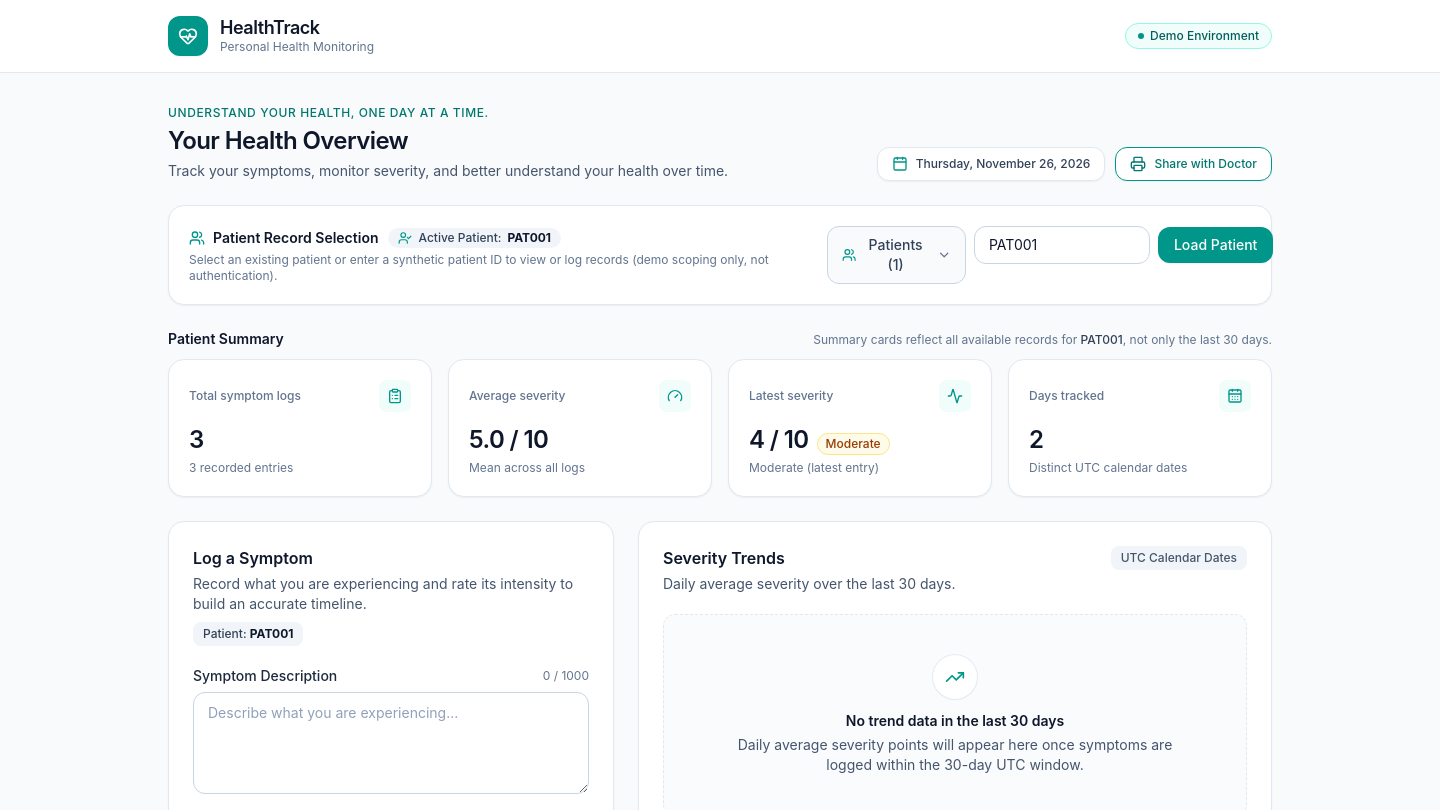
Test: HealthTrack Dashboard › refreshes dynamic patient list after creating a new patient first symptom
Expected: the button with aria-label "Browse existing patients" reads "Patients (1)", [827,226,966,284]
// Enter a new patient ID manually and load it
Replace the text in the field named "Patient ID" with "PAT_NEW_99": (1062, 245) [974,226,1150,264]
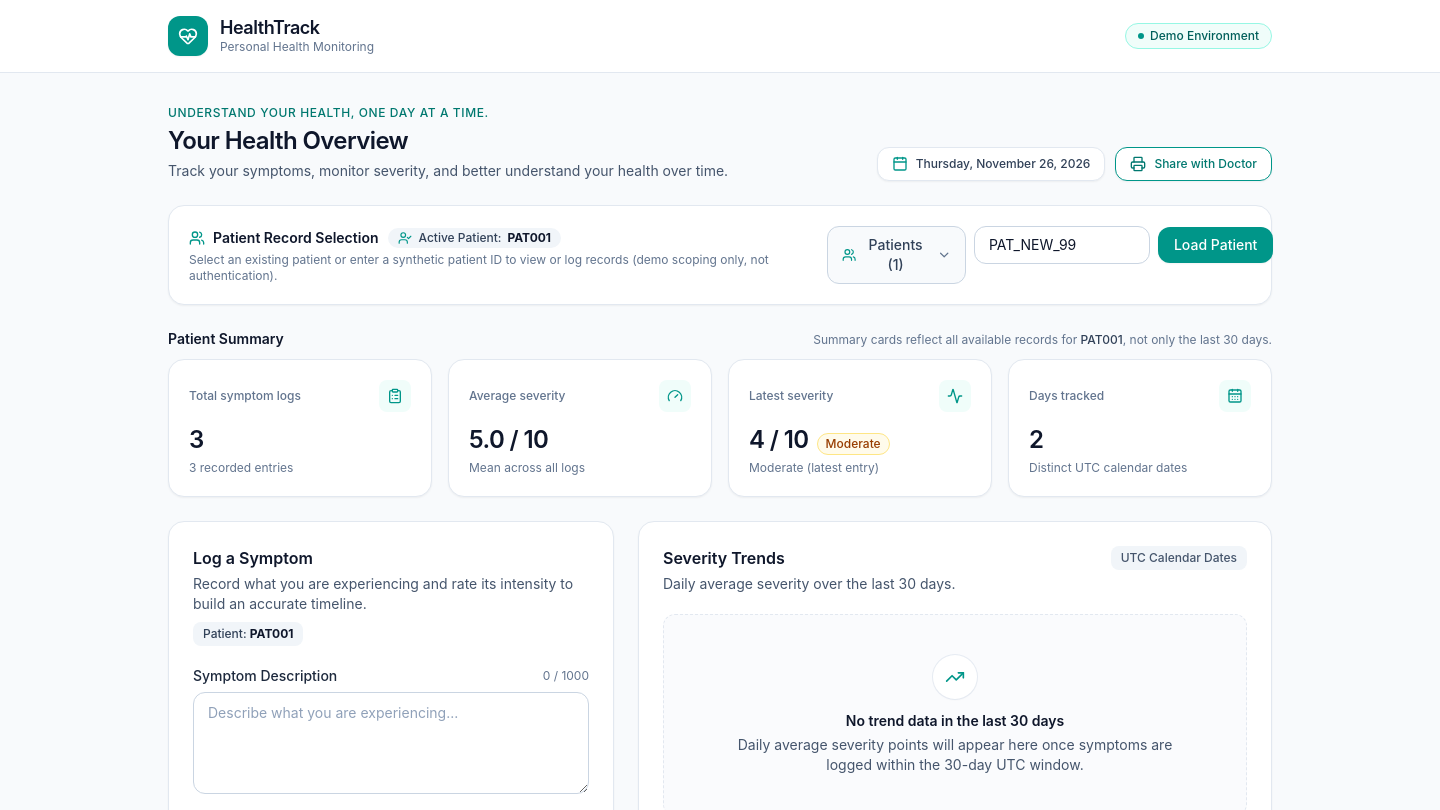
Click the button "Load Patient": (1216, 245) [1158,227,1273,263]
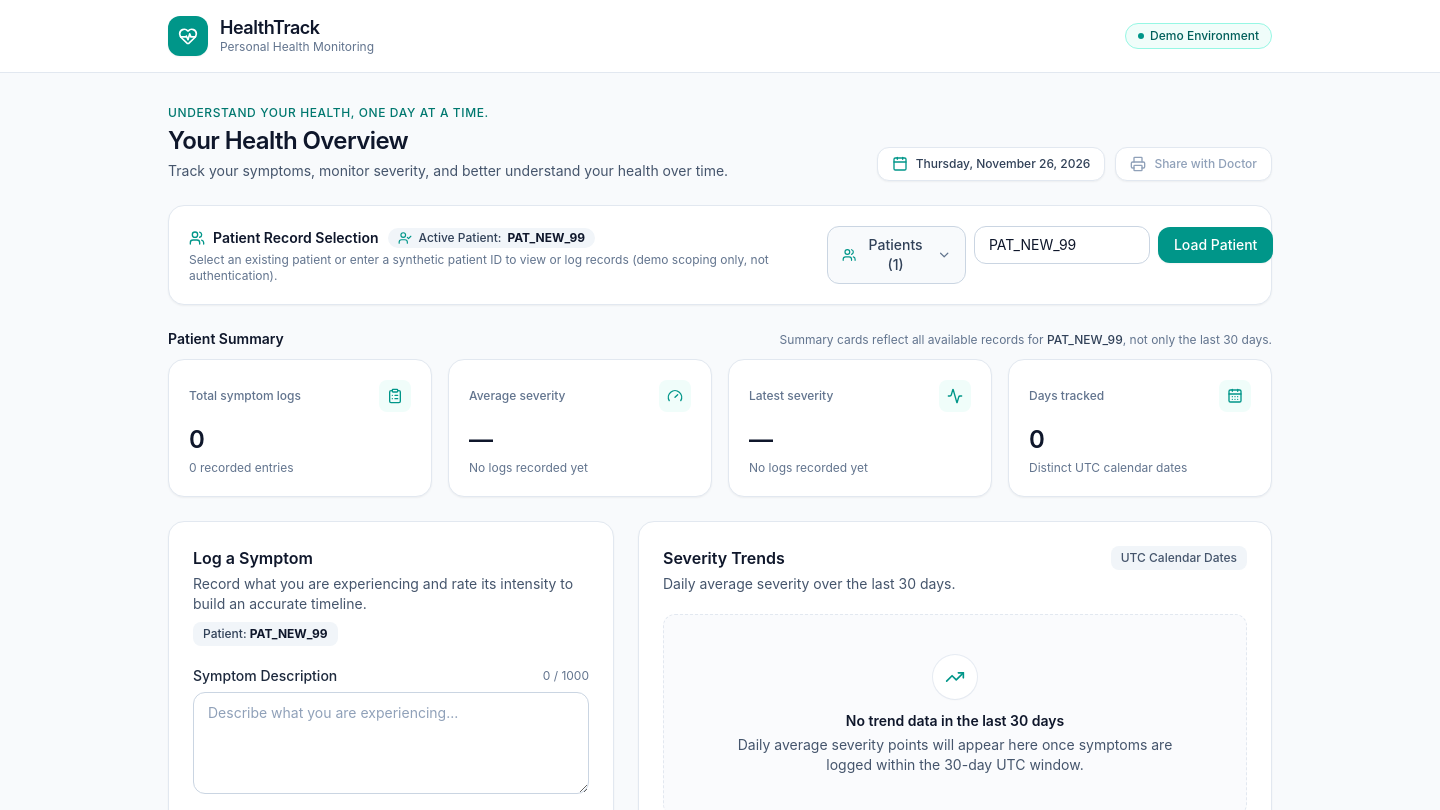
// Submit first symptom for PAT_NEW_99
In the text box labelled "Symptom Description": (391, 743) [193,692,589,794], type "First symptom for new patient"
(page scrolled)
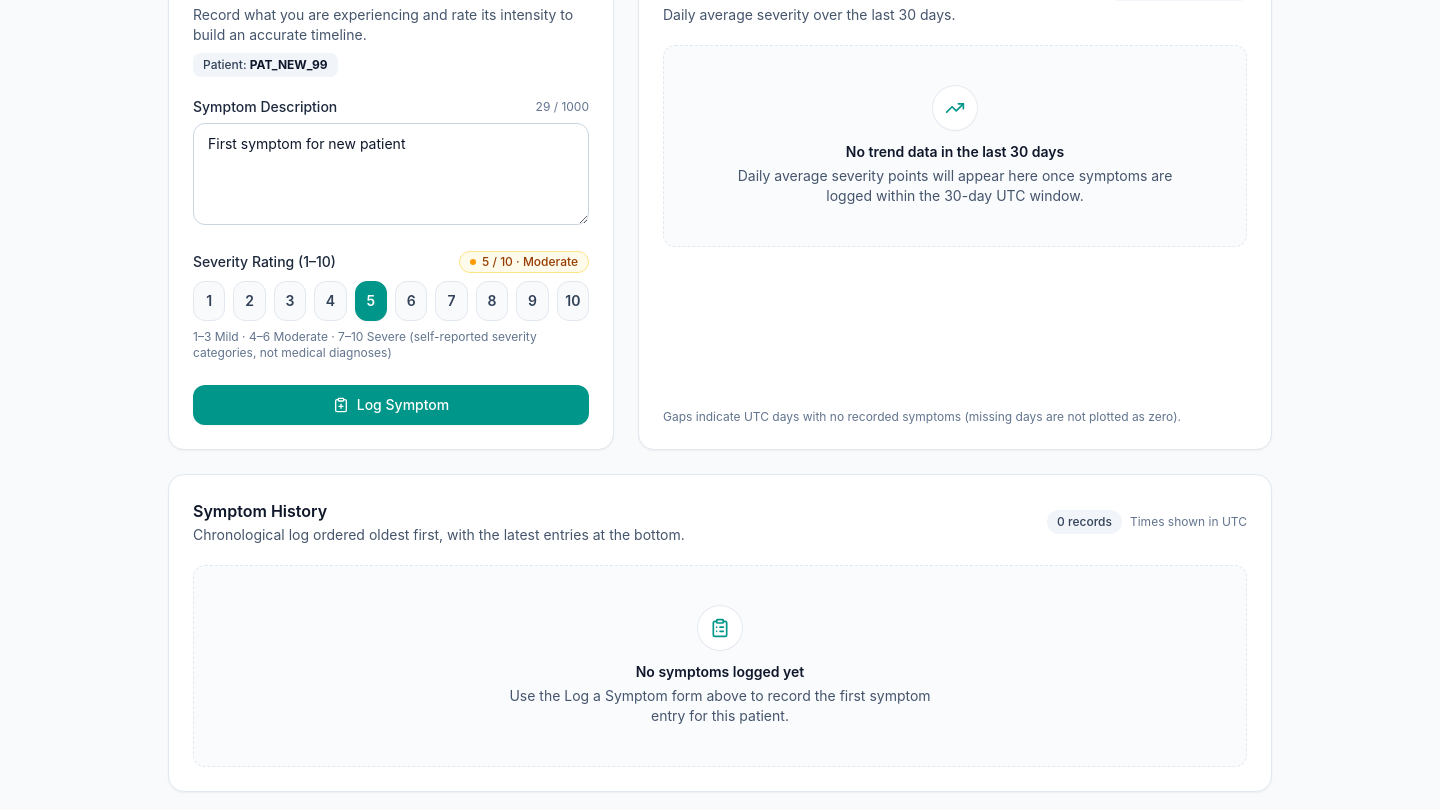
Click the button "Log Symptom": (391, 405) [193,385,589,425]
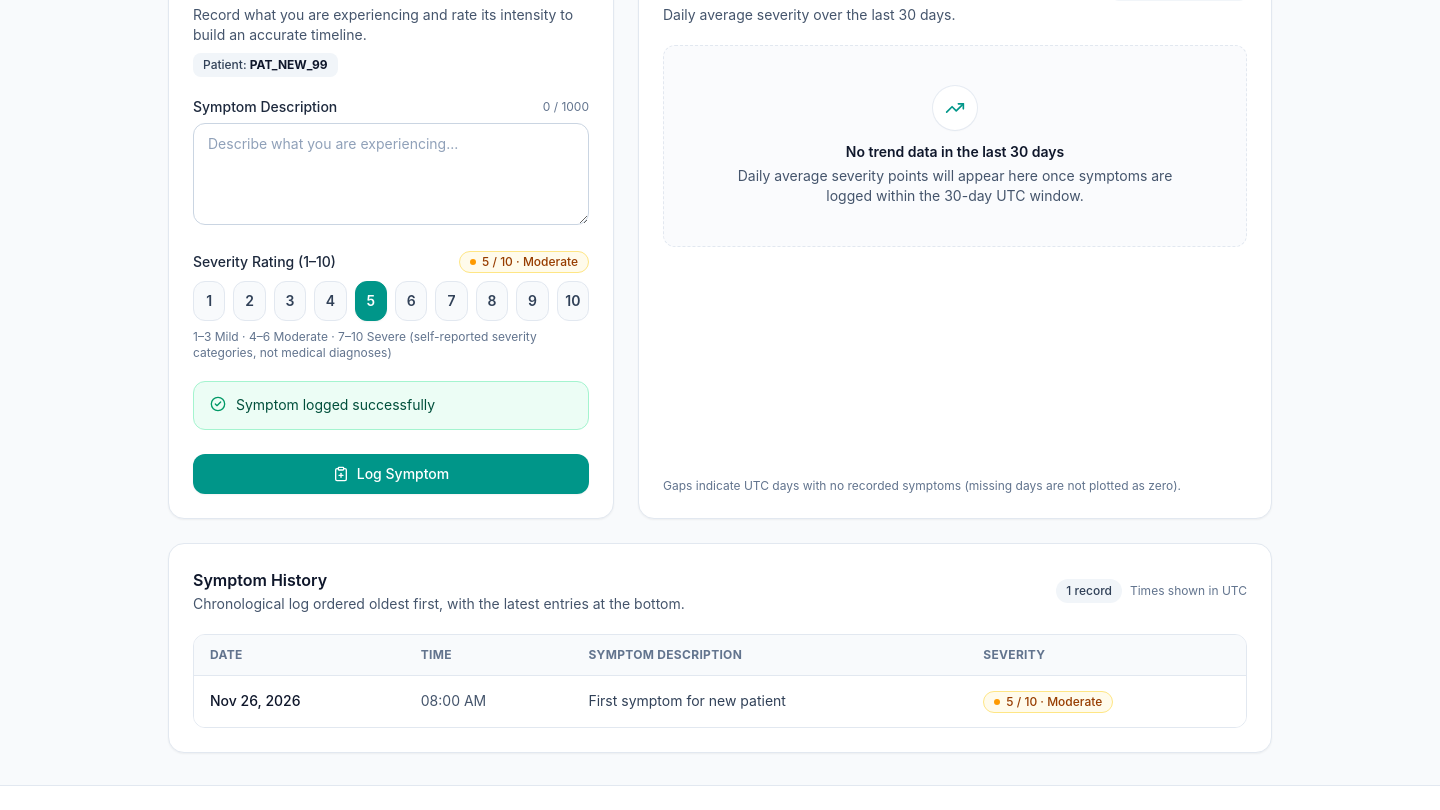
Expected: the text "First symptom for new patient" is shown, [572,675,967,727]
